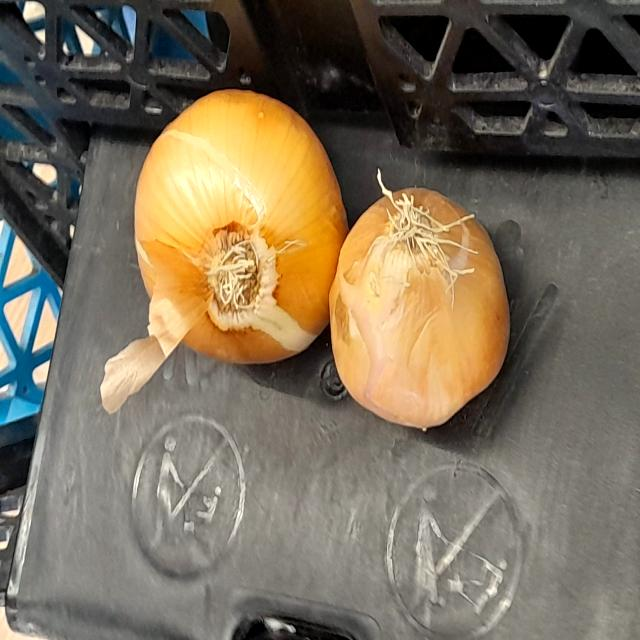onion: (108, 74, 342, 376), (326, 175, 518, 435)
